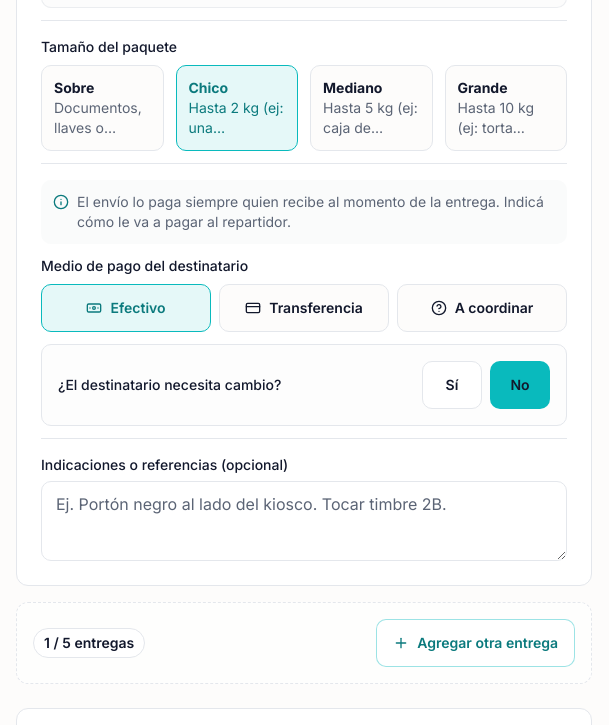
Test: T-340: CreateRequestForm multi-drop › muestra los chips de cambio en efectivo ("Paga con: $ 2.000 / $ 5.000 / $ 10.000") cuando needsChange es true
(page scrolled)
Check: the text "Paga con: $ 2.000" is not shown
# Hacemos click en "Sí" para cambio
Click the button "Sí". click: [452, 384]
box: [422,360,482,408]
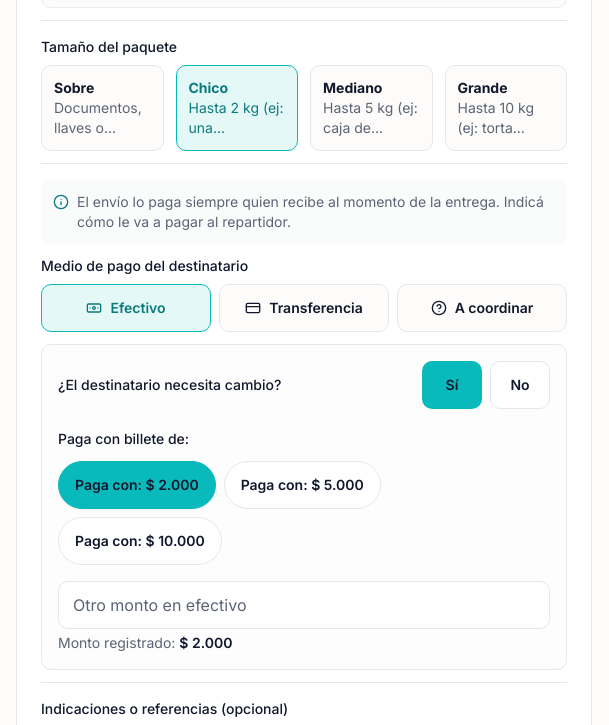
Check: the button "Paga con: $ 2.000" is shown, box [58,460,216,508]
Check: the button "Paga con: $ 5.000" is shown, box [224,460,381,508]
Check: the button "Paga con: $ 10.000" is shown, box [58,516,222,564]
